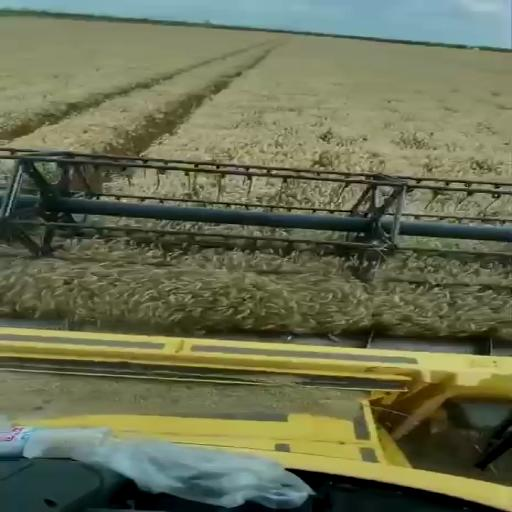bugday: (0, 28, 282, 161), (0, 246, 369, 333), (370, 255, 511, 335), (215, 97, 319, 164)
